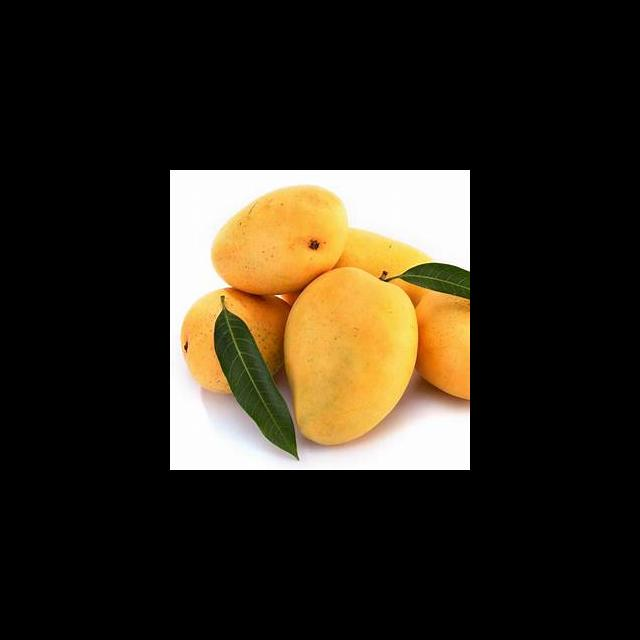mango: (285, 267, 417, 444), (212, 186, 348, 295), (181, 288, 290, 394), (416, 291, 470, 399)
